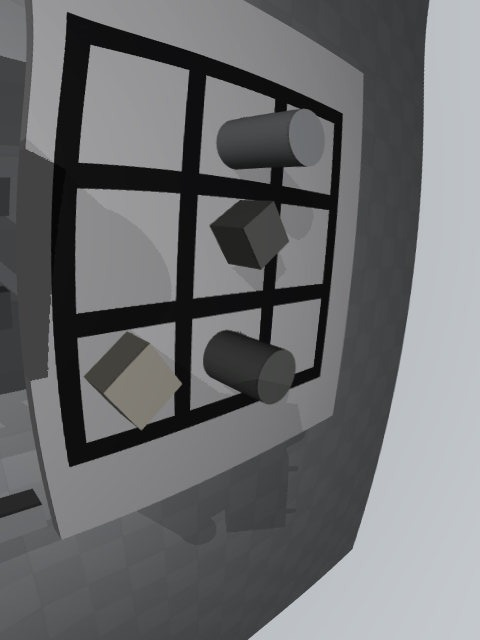can: (216, 109, 325, 170)
cube: (210, 200, 289, 270)
cylinder: (203, 330, 295, 404)
foam: (84, 331, 183, 431)
